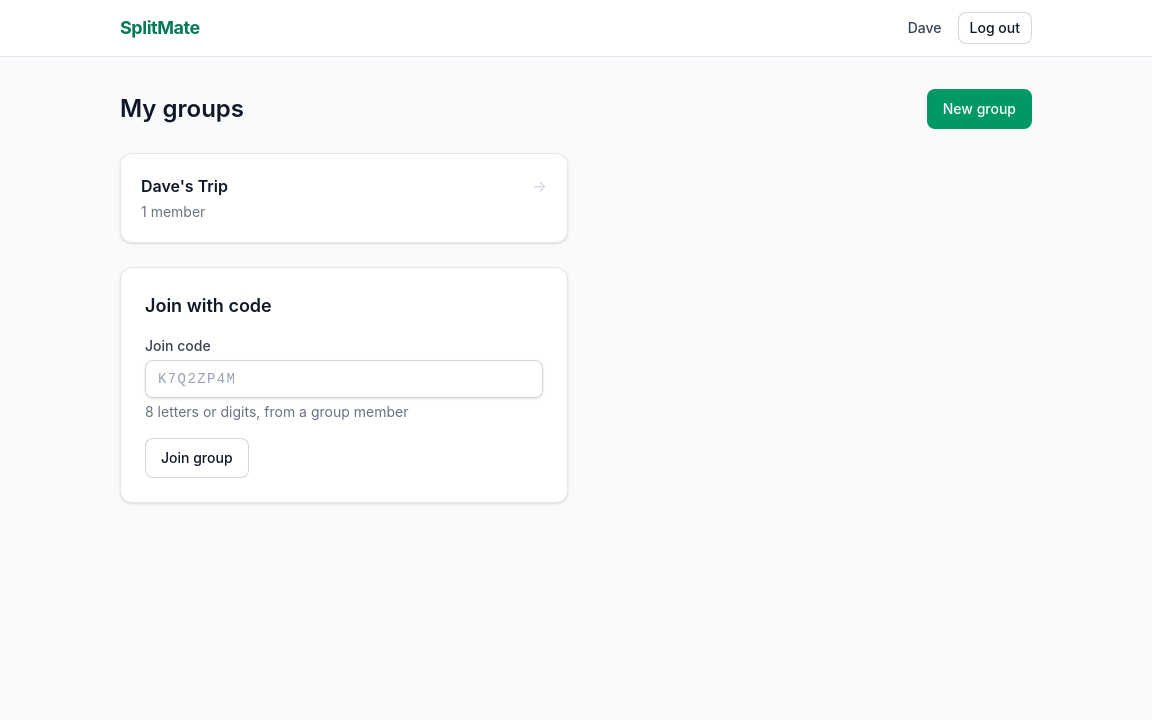
Test: Join group › Dave joins Apartment 4B with a lowercase code and lands on its page
Type "k7q2zp4m" into the field labelled "Join code" at [344, 379], box [145,360,543,398]
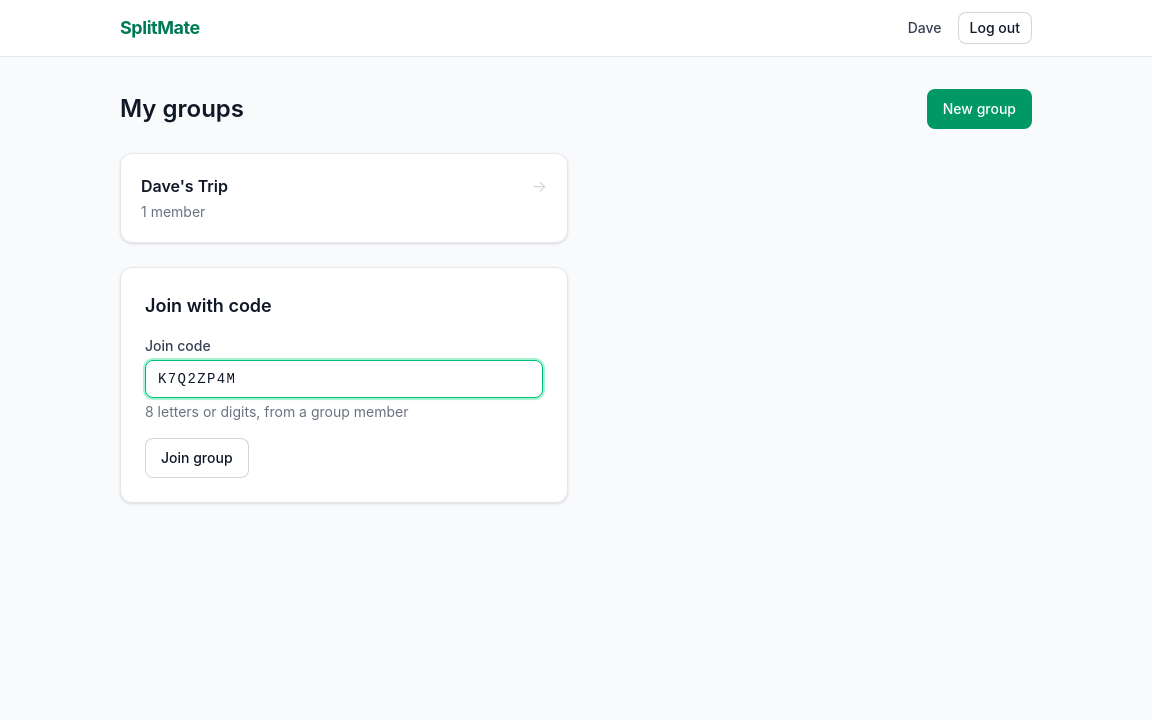
Click the button "Join group" at [197, 458], box [145,438,248,478]
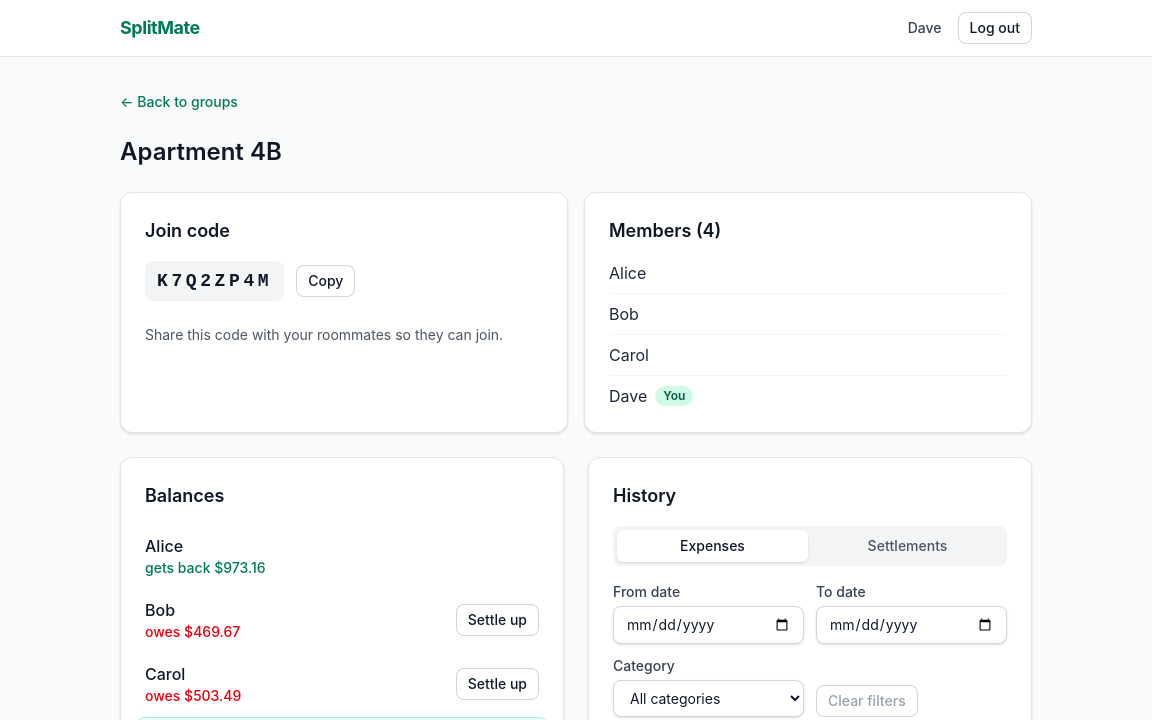
Now the heading "Apartment 4B" is shown, box [120,137,282,166]
Now the text "Dave" below "Members (4)" is shown, box [609,386,647,406]
